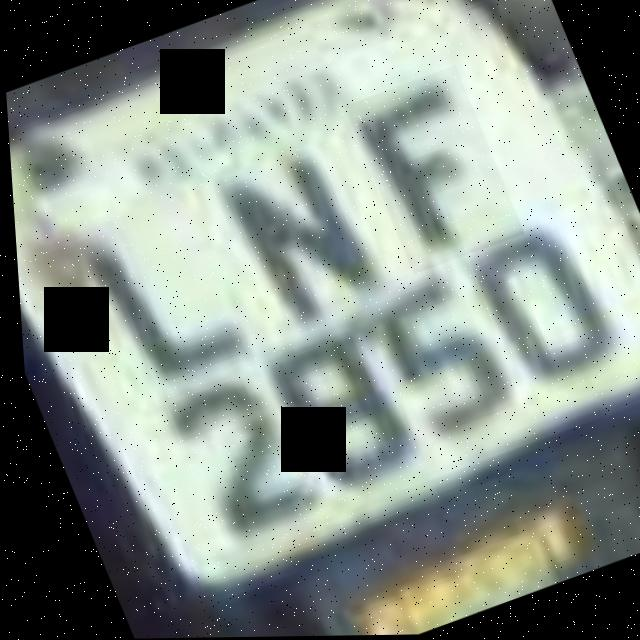0: (422, 203, 640, 436)
2: (107, 333, 328, 567)
5: (321, 249, 543, 474)
9: (213, 290, 433, 520)
F: (341, 66, 524, 277)
J: (46, 173, 255, 401)
N: (173, 110, 409, 346)
